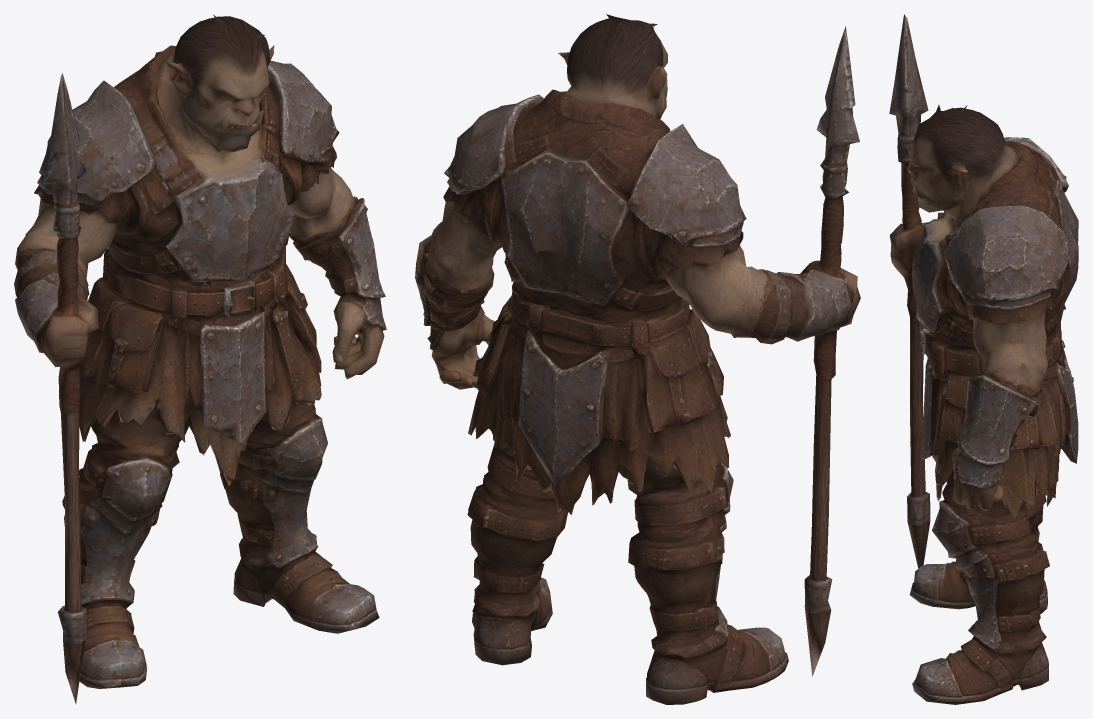
The model's file is original.glb.
The picture shows the model from 3 angles, left to right: view 1: azimuth 30°, elevation 25°; view 2: azimuth 150°, elevation 25°; view 3: azimuth 270°, elevation 25°; orthographic projection. The views are drawn at different scales.
Parts seen in each view (by area): view 1: tripo_node_aadb5d40-78ba-4950-af5f-4935ce30814d; view 2: tripo_node_aadb5d40-78ba-4950-af5f-4935ce30814d; view 3: tripo_node_aadb5d40-78ba-4950-af5f-4935ce30814d.
Part boxes in pixels (bbox=[...]): tripo_node_aadb5d40-78ba-4950-af5f-4935ce30814d: bbox=[14, 14, 386, 703]; tripo_node_aadb5d40-78ba-4950-af5f-4935ce30814d: bbox=[415, 14, 860, 704]; tripo_node_aadb5d40-78ba-4950-af5f-4935ce30814d: bbox=[889, 14, 1078, 704].
Size of the model in its own units: 0.6302 by 1.01 by 0.3116.
1 material, 1 textured.
